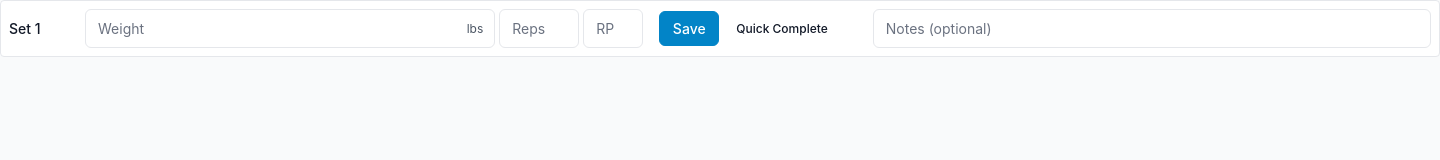
Test case: SetInput › validates reps input
Step 1. Type "0" into the number field with placeholder "Reps" → (539, 28), box [499,9,579,48]
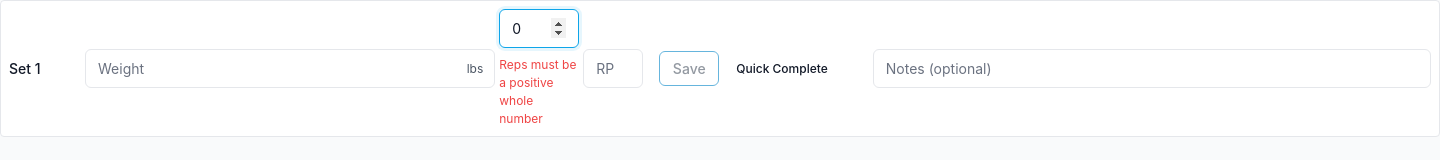
Expected: the text "Reps must be a positive whole number" is shown, [499,56,579,128]
